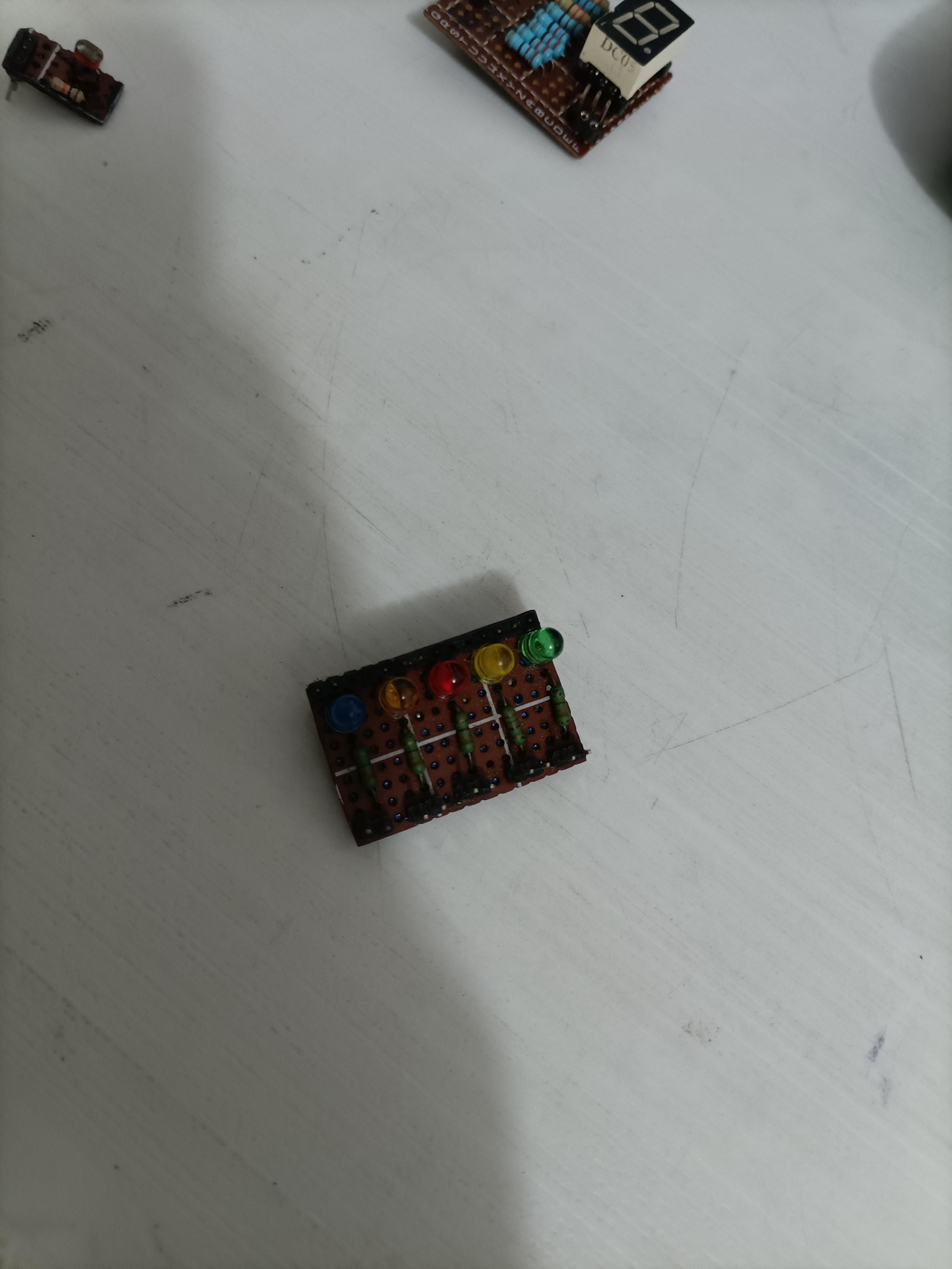LED: (468, 641, 516, 682), (329, 688, 368, 737), (373, 677, 421, 715), (522, 626, 565, 666), (426, 658, 471, 694)
Resistencia: (529, 73, 577, 130), (502, 703, 534, 753), (547, 685, 578, 733), (350, 749, 380, 796), (451, 711, 477, 765), (55, 68, 101, 98), (401, 732, 427, 775)
